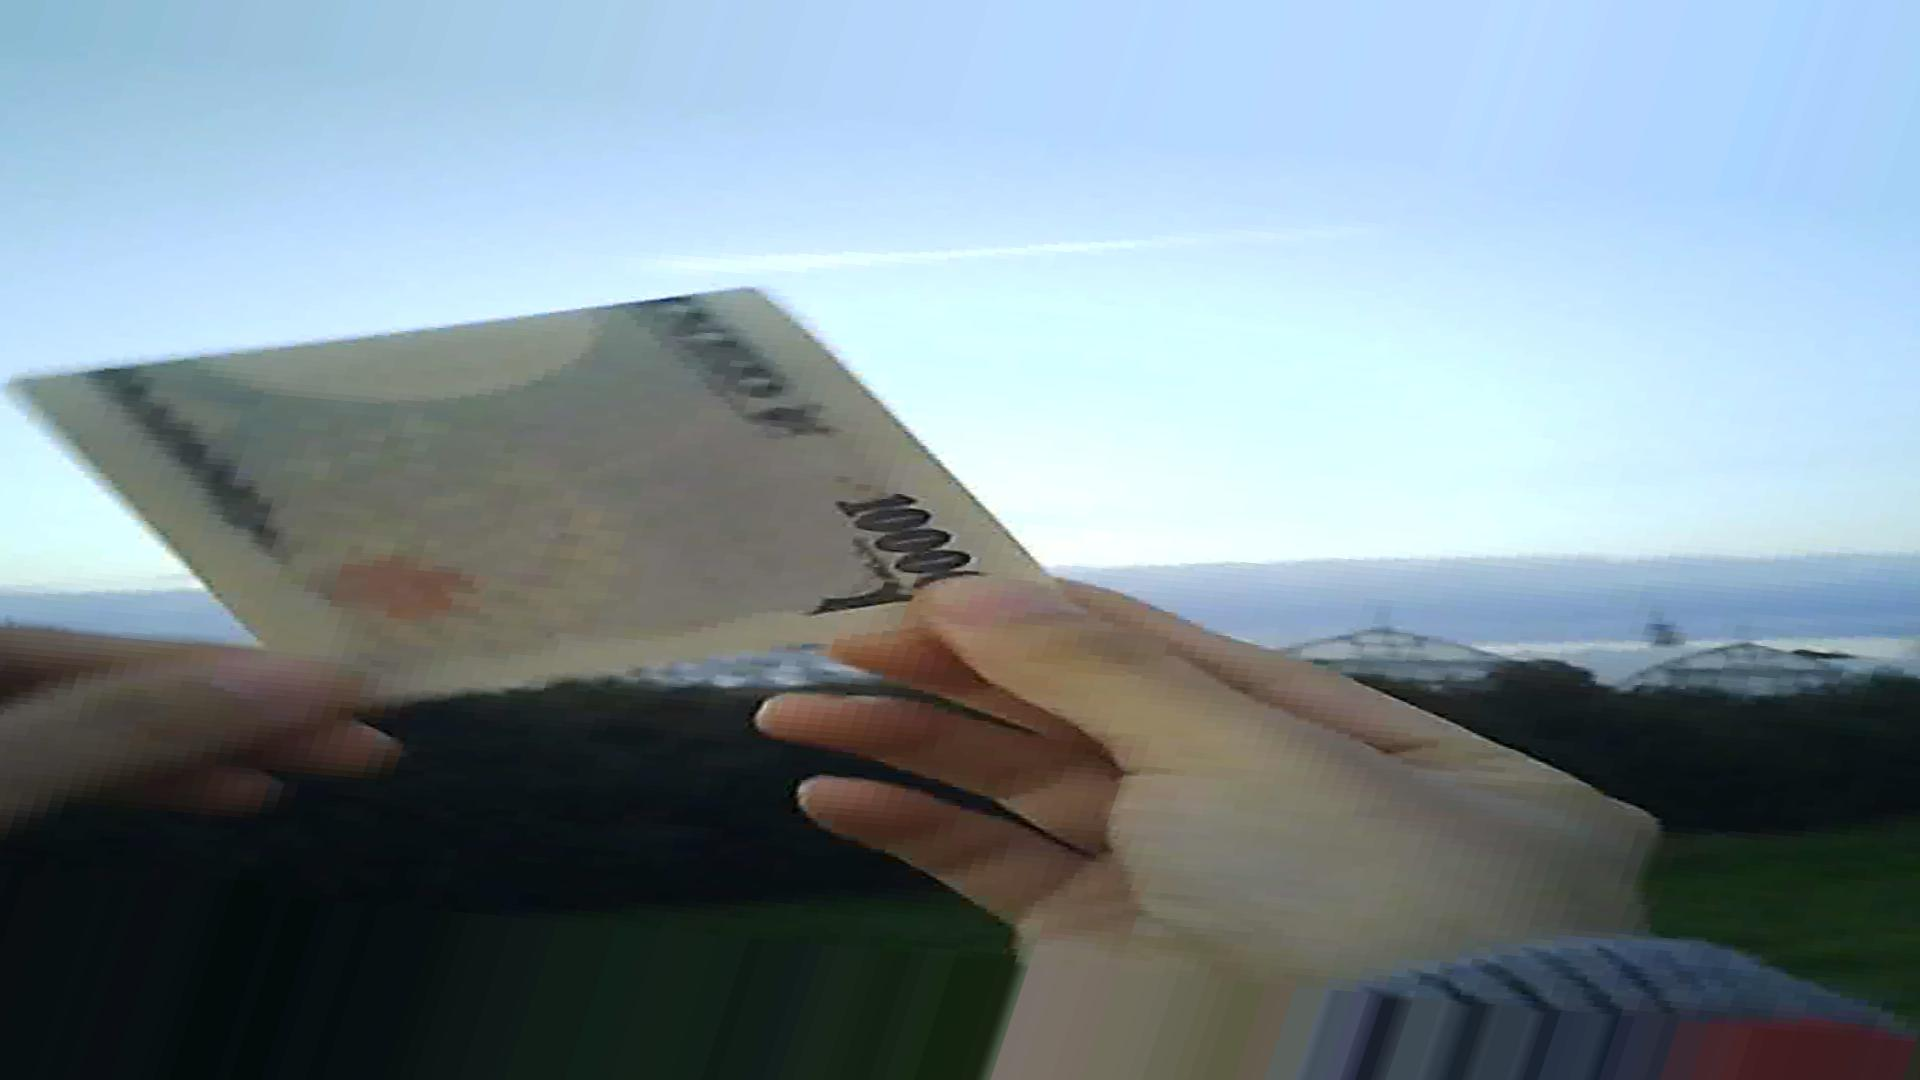10,000 Yen: (28, 266, 1059, 678)
